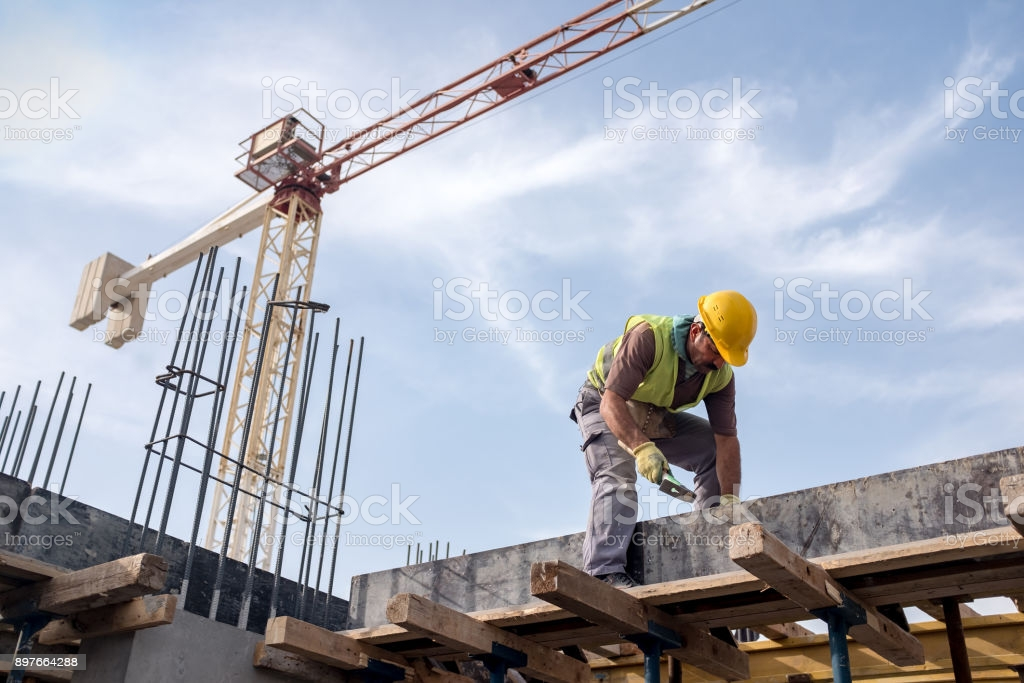With Helmet: (683, 285, 764, 382)
